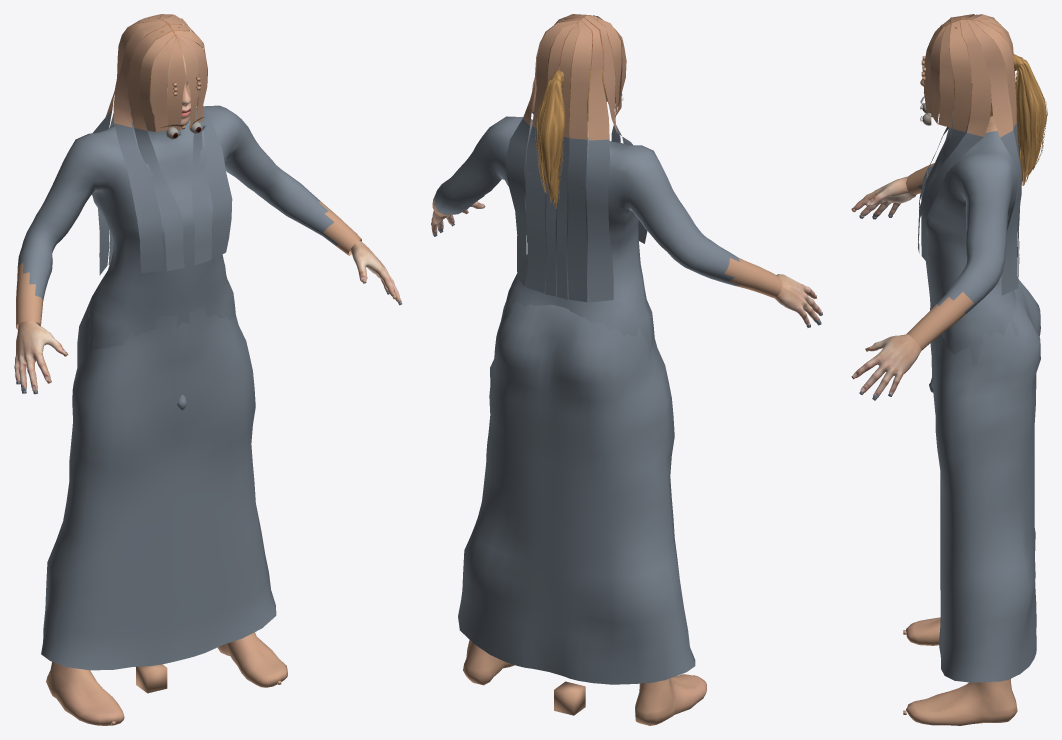
File: Nova_V03B_Anatomy_Review.glb
3 renders of one model, left to right at view 1: azimuth 30°, elevation 25°; view 2: azimuth 150°, elevation 25°; view 3: azimuth 270°, elevation 25°, orthographic.
Parts seen in each view (by area): view 1: Nova_Continuous_Anatomical_Basemesh; view 2: Nova_Continuous_Anatomical_Basemesh, Nova_Continuous_Anatomical_Basemesh.ponytail01; view 3: Nova_Continuous_Anatomical_Basemesh, Nova_Continuous_Anatomical_Basemesh.ponytail01.
Boxes of the visible parts, x1,y1,x2,y2 form: Nova_Continuous_Anatomical_Basemesh: [14, 14, 402, 725]; Nova_Continuous_Anatomical_Basemesh: [431, 14, 822, 725]; Nova_Continuous_Anatomical_Basemesh.ponytail01: [535, 59, 615, 208]; Nova_Continuous_Anatomical_Basemesh: [851, 14, 1040, 725]; Nova_Continuous_Anatomical_Basemesh.ponytail01: [939, 54, 1047, 185].
Bounding box in the file's own units: 1.04 × 1.77 × 0.4695.
6 materials, 5 textured.
